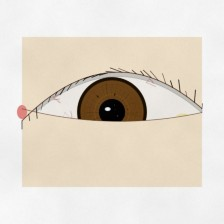pinguecula_lesion: (166, 105, 200, 133)
